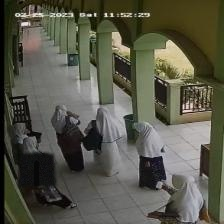Cadar_Niqab: (18, 136, 55, 186)
